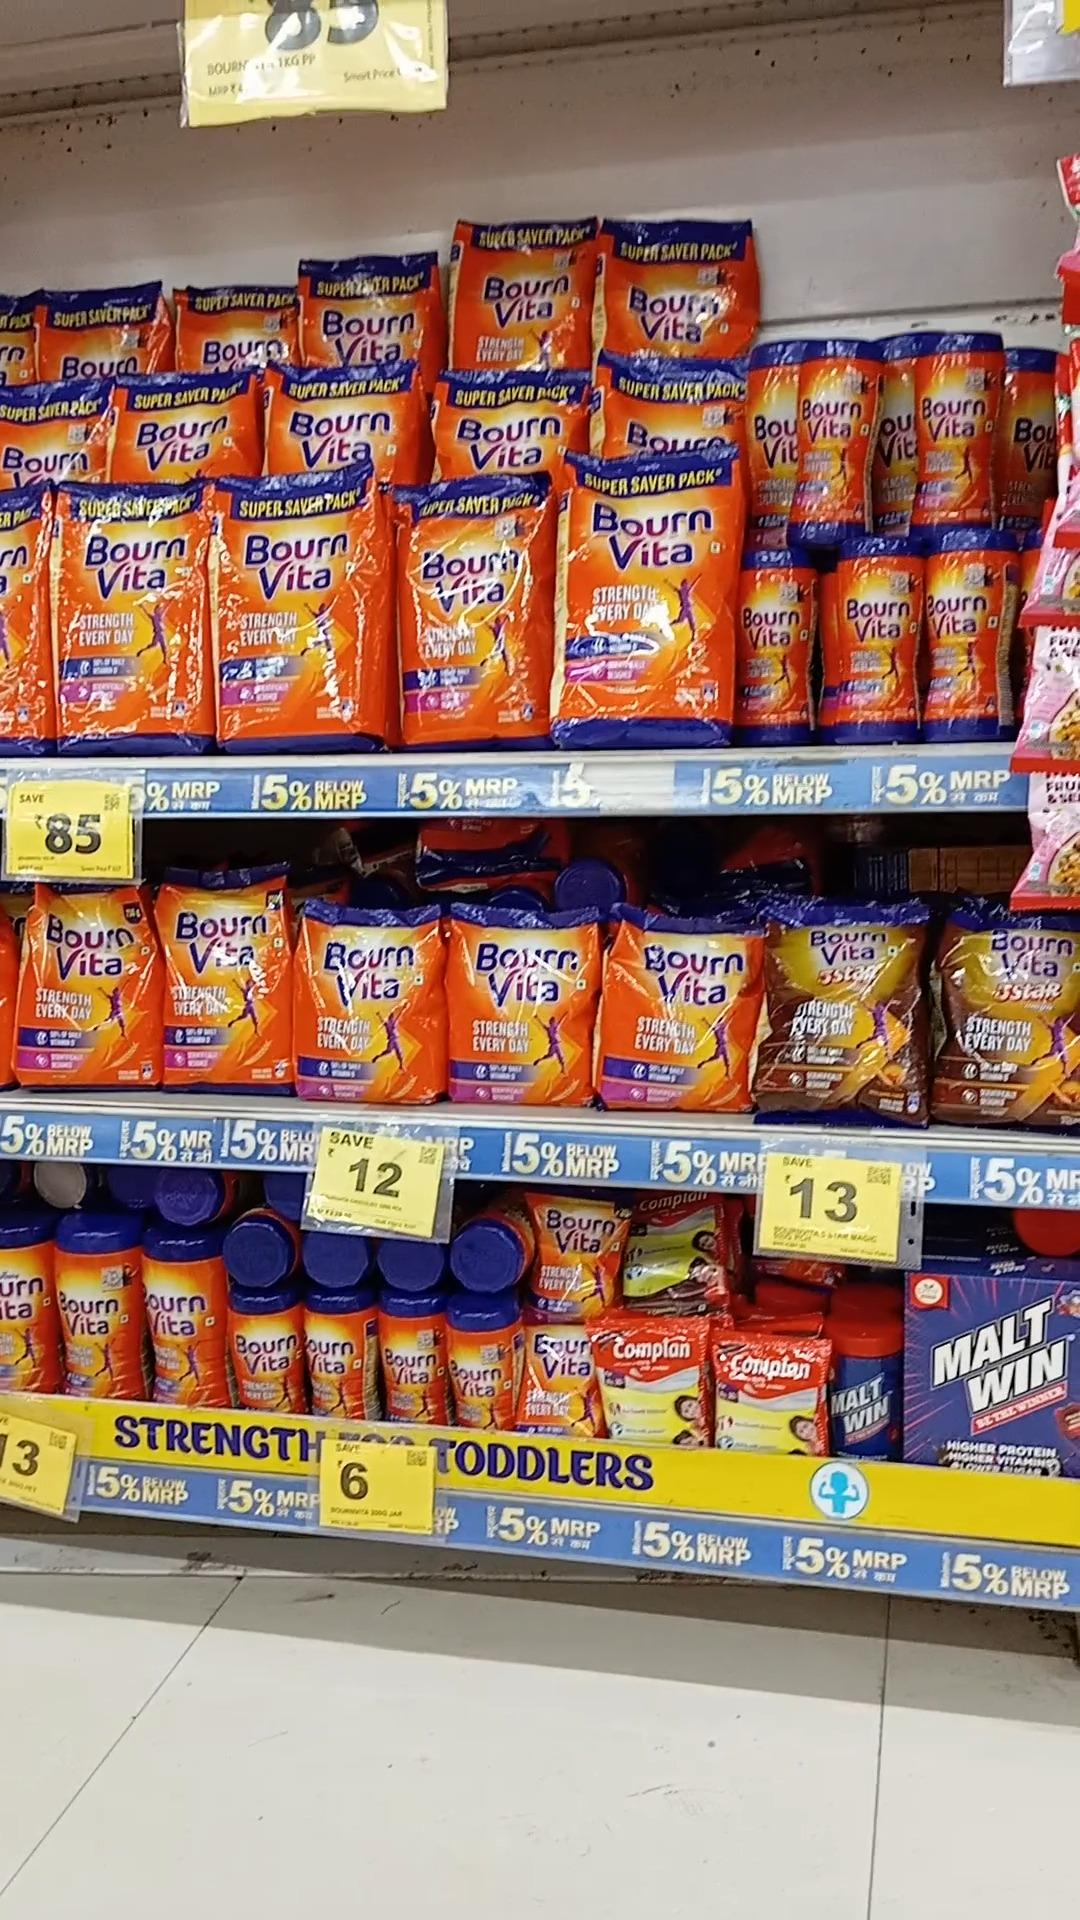BOURN_VITA_1_KG_POUCH: (559, 444, 728, 749), (212, 468, 388, 749), (394, 479, 549, 746), (54, 483, 203, 754)
BOURN_VITA_200_G_JAR: (380, 1292, 450, 1424), (228, 1290, 298, 1412), (305, 1292, 369, 1419), (452, 1295, 510, 1432)
BOURN_VITA_500_G_JAR: (927, 525, 1015, 742), (832, 539, 920, 745), (787, 340, 873, 539), (733, 549, 818, 748), (914, 322, 996, 522), (57, 1209, 141, 1395), (145, 1226, 224, 1407)
BOURN_VITA_500_G_POUCH: (297, 898, 448, 1105), (596, 913, 752, 1113), (162, 869, 293, 1098), (11, 884, 161, 1083), (451, 905, 593, 1108)
BOURN_VITA_75_G_POUCH: (534, 1193, 621, 1315), (514, 1319, 591, 1439)
BOURN_VITA_FIVE_STAR_MAGIC_500_G_POUCH: (761, 903, 930, 1130), (942, 894, 1080, 1130)
